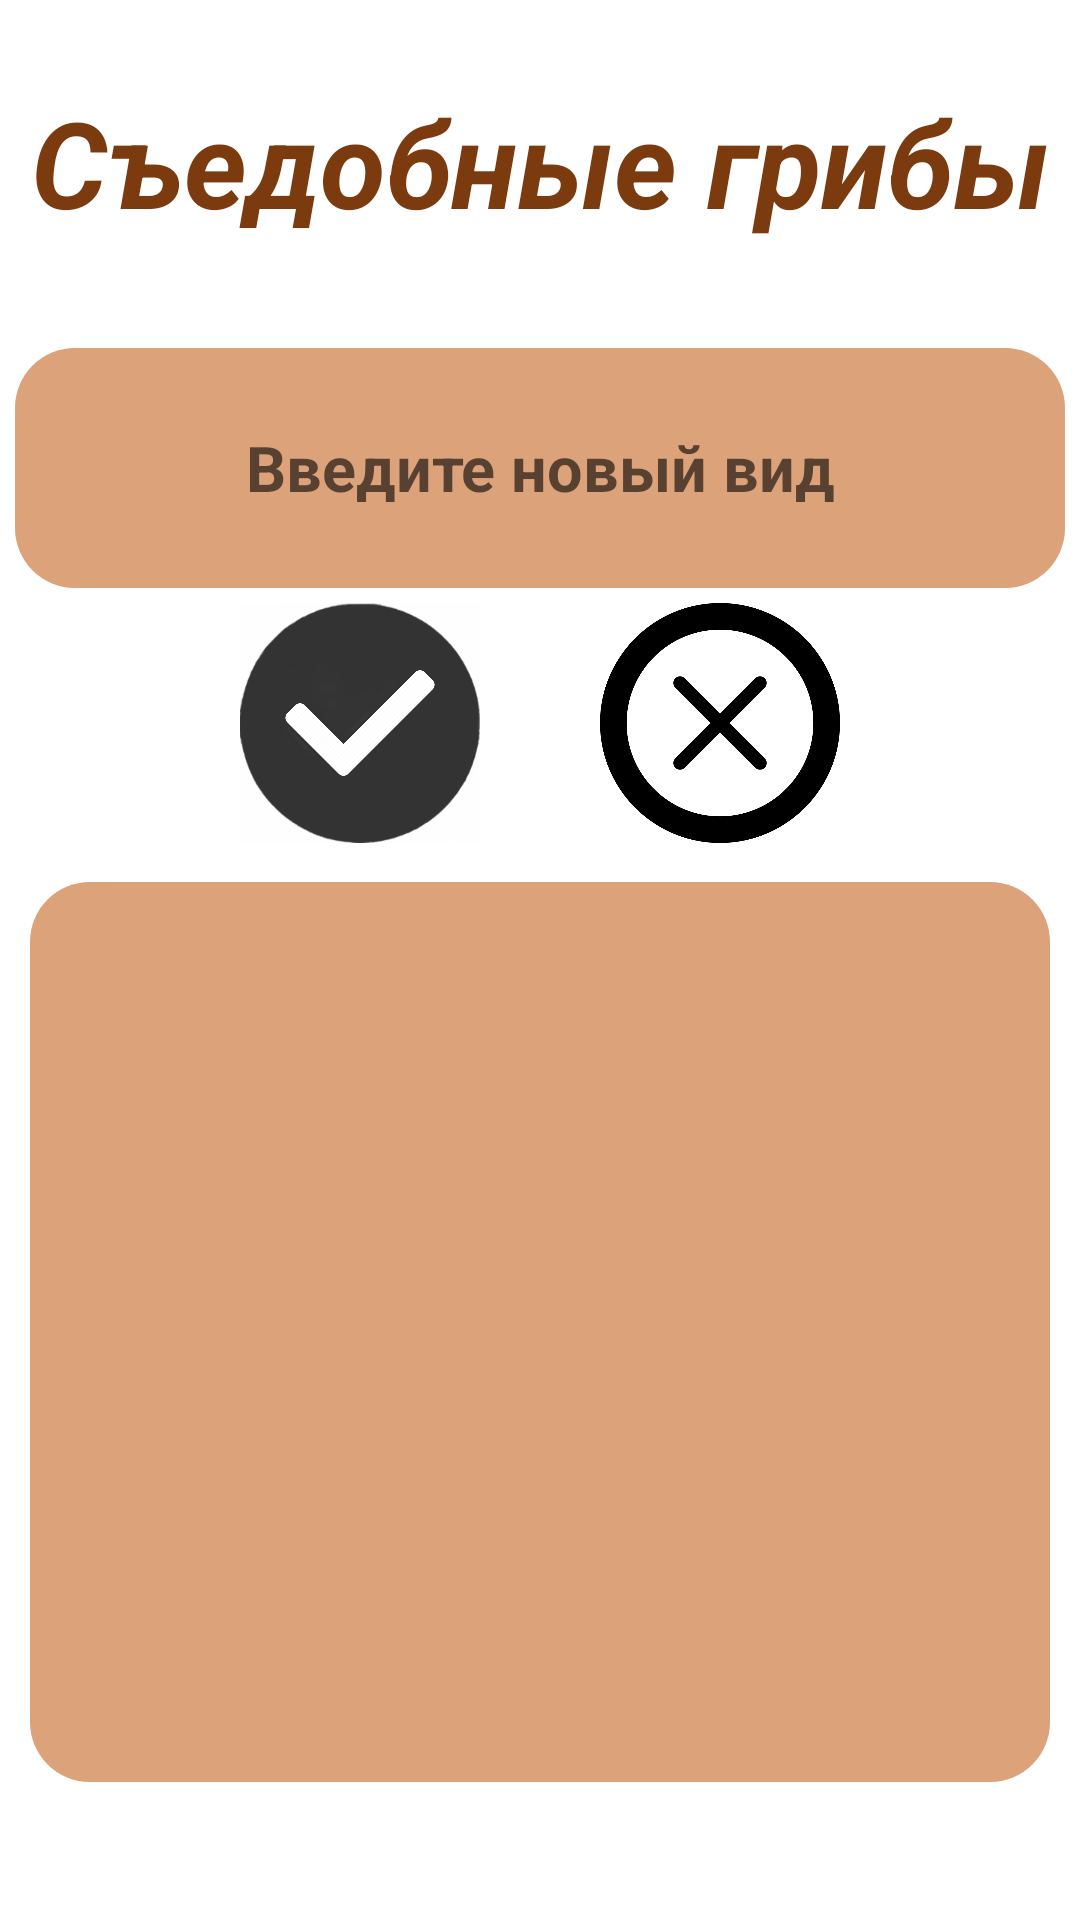

Where to tap for icons on this 1080×1920 app screen, as [x,y]:
accept: [360,723]
cancel: [720,723]
